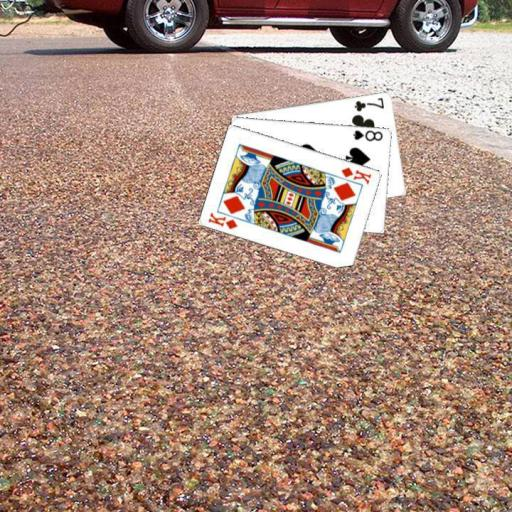card-corner: (338, 164, 372, 186), (205, 209, 239, 230), (352, 94, 386, 112), (350, 127, 384, 142)
